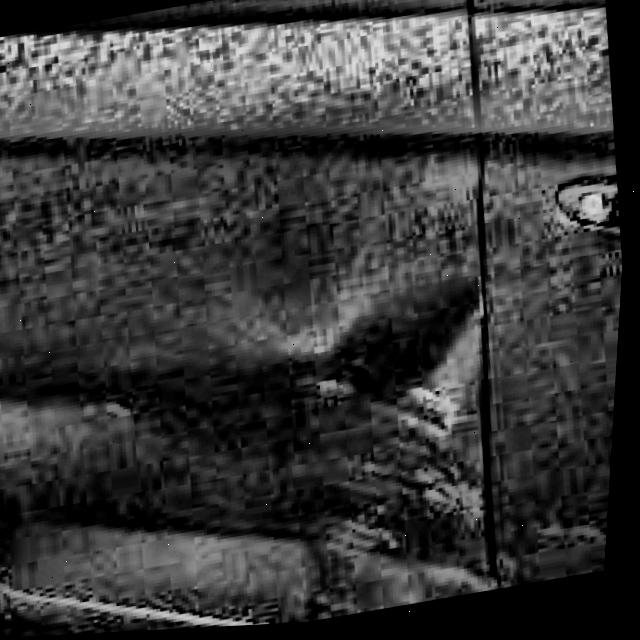door_dent: (313, 288, 496, 443)
